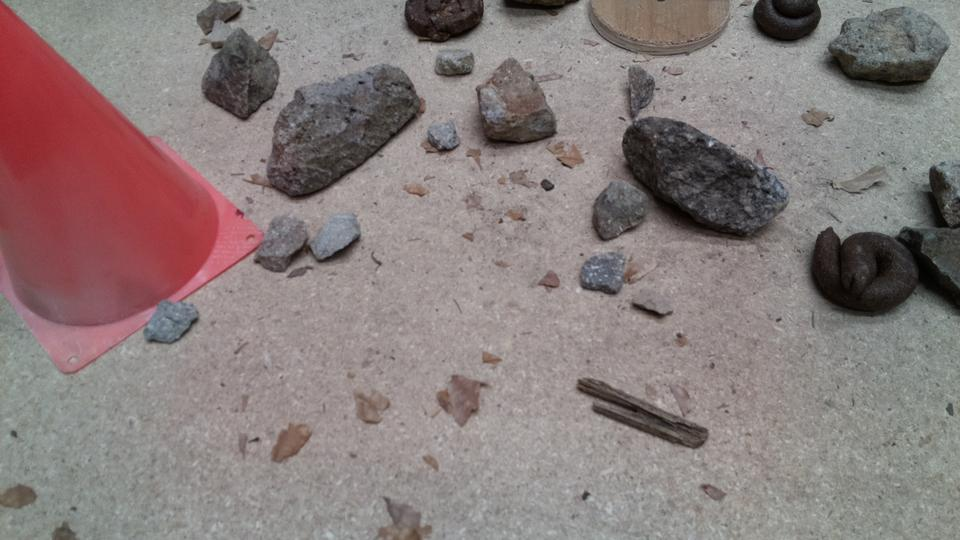poop: (810, 225, 923, 318), (402, 1, 486, 40), (752, 1, 824, 45)
